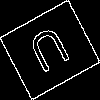U: (25, 24, 77, 82)
